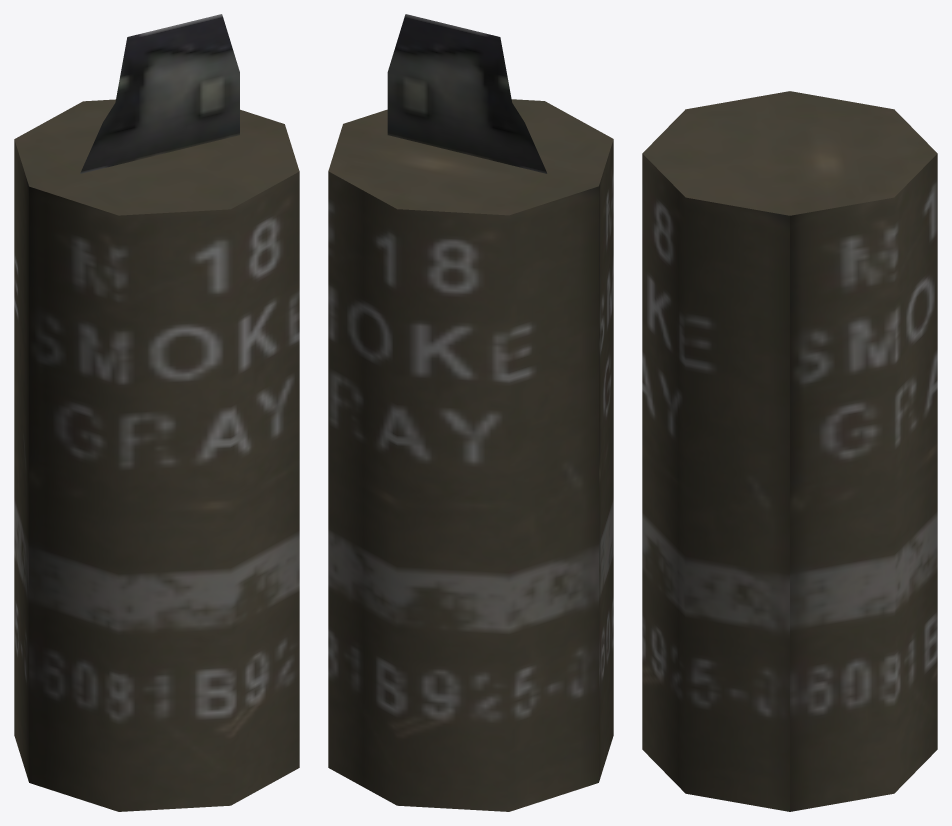
The model's file is smoke_grenade.fbx.
3 renders of one model, left to right at view 1: azimuth 30°, elevation 25°; view 2: azimuth 150°, elevation 25°; view 3: azimuth 270°, elevation 25°, orthographic.
Parts seen in each view (by area): view 1: smoke_grenade; view 2: smoke_grenade; view 3: smoke_grenade.
Part boxes in pixels (x1=…): smoke_grenade: x1=14, y1=14, x2=299, y2=811; smoke_grenade: x1=328, y1=14, x2=613, y2=811; smoke_grenade: x1=642, y1=91, x2=937, y2=811.
Size of the model in its own units: 3.23 by 8.72 by 3.23.
